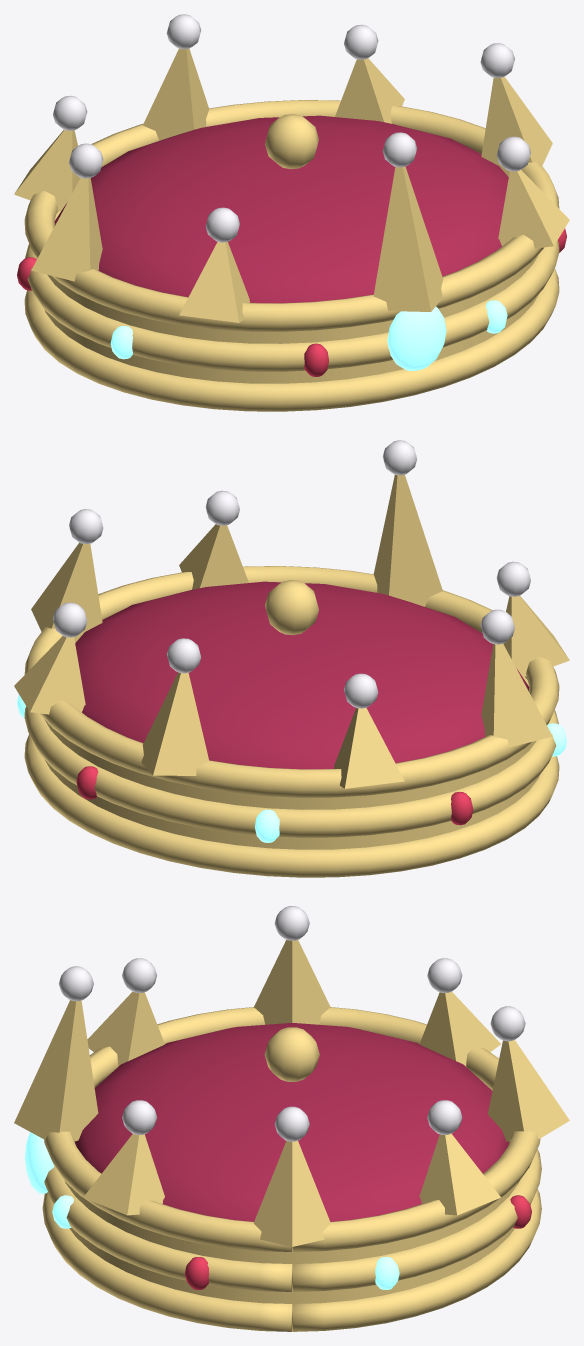
The model's file is QueenCrown.fbx.
3 renders of one model, top to bottom at view 1: azimuth 30°, elevation 25°; view 2: azimuth 150°, elevation 25°; view 3: azimuth 270°, elevation 25°, orthographic.
Parts seen in each view (by area): view 1: QueenCrown; view 2: QueenCrown; view 3: QueenCrown.
Part boxes in pixels (bbox=[...]): QueenCrown: bbox=[14, 14, 569, 411]; QueenCrown: bbox=[14, 440, 569, 877]; QueenCrown: bbox=[14, 906, 569, 1331].
Size of the model in its own units: 0.4782 by 0.223 by 0.4415.
